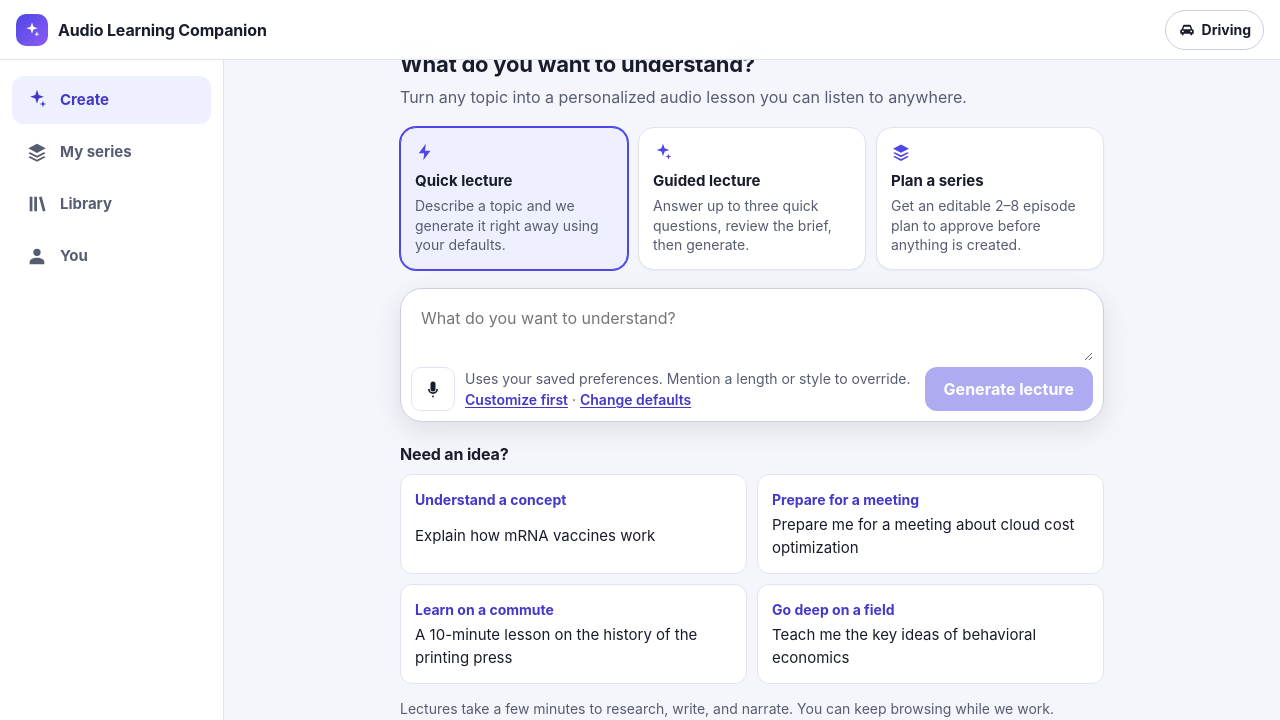
it: authenticated › keeps a failed request recoverable without polluting the conversation
The image size is (1280, 720).
(page scrolled)
Expected: the navigation bar named "Primary" is shown, x1=0 y1=60 x2=224 y2=719
Type "Explain DNS" into the text box.
click(752, 330); type("Explain DNS")  # box x1=411 y1=299 x2=1093 y2=361
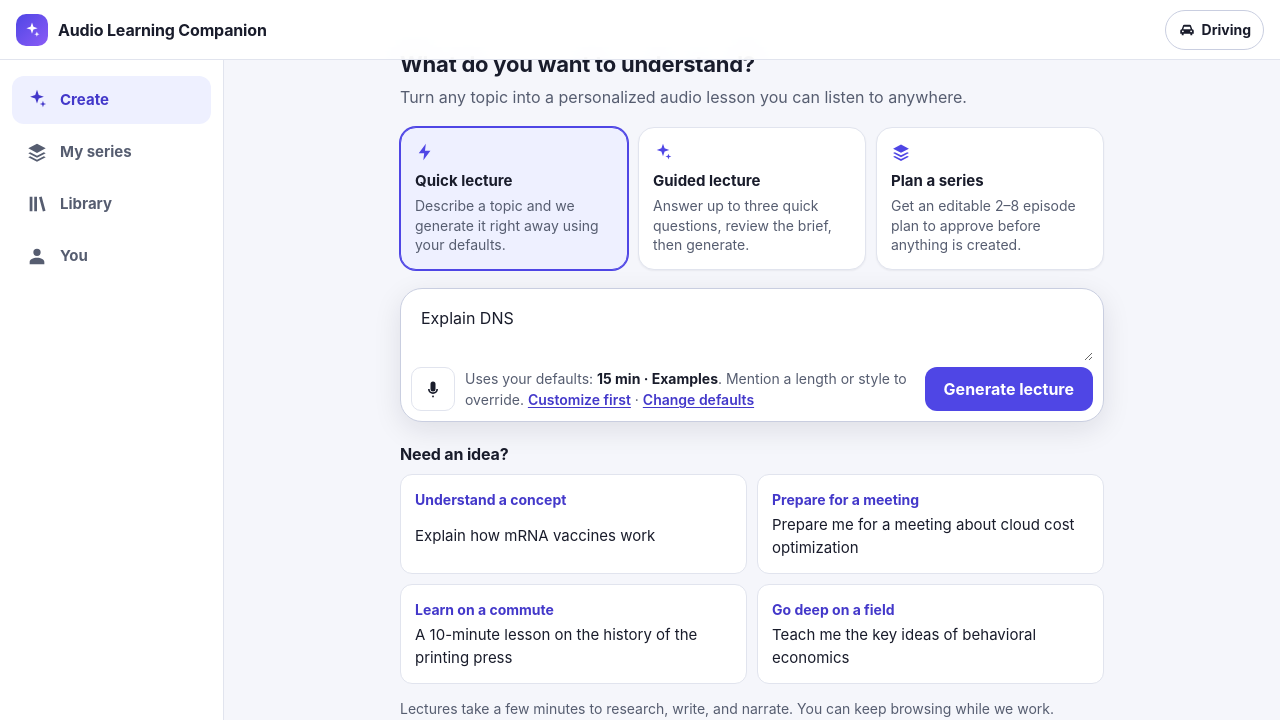
Click the button "Generate lecture".
click(1009, 389)  # box x1=925 y1=367 x2=1093 y2=411
(page scrolled)
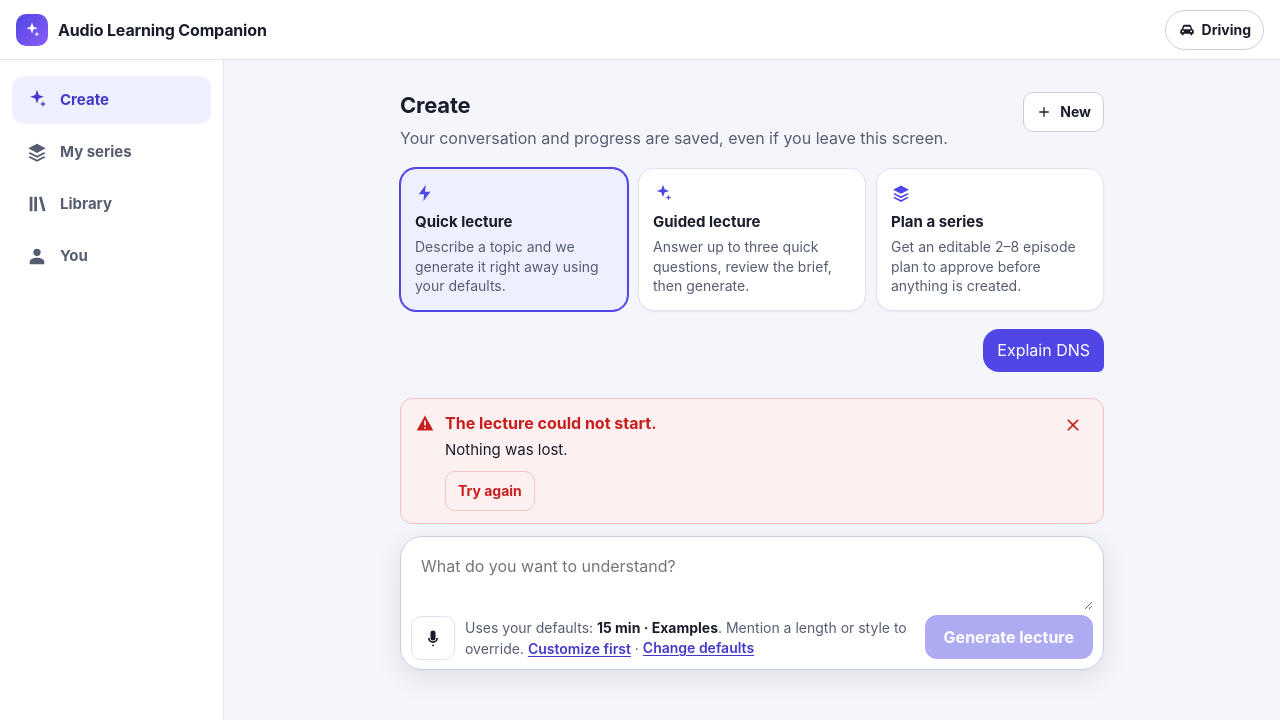
Result: the text "The lecture could not start." is shown at x1=445 y1=413 x2=656 y2=433
Result: the button "Try again" is shown at x1=445 y1=472 x2=535 y2=512
Result: the number of list items "Explain DNS" is 1 at x1=983 y1=329 x2=1104 y2=372
